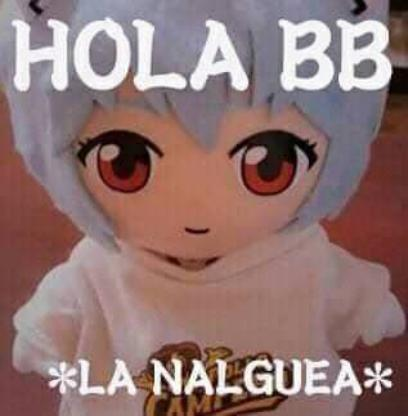rei-plush: (0, 0, 406, 270)
